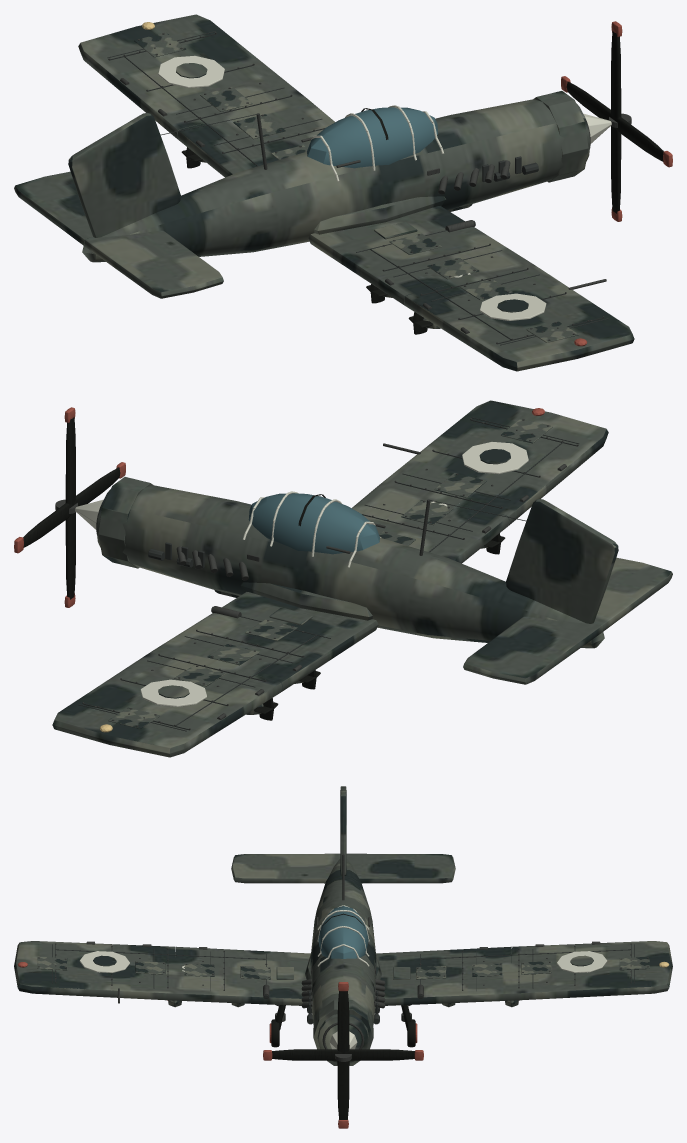
Rendered from plane_friendly.glb.
The picture shows the model from 3 angles, top to bottom: view 1: azimuth 30°, elevation 25°; view 2: azimuth 150°, elevation 25°; view 3: azimuth 270°, elevation 25°; orthographic projection. The views are drawn at different scales.
Parts seen in each view (by area): view 1: part, V2 field detail • vehicles/plane_friendly, part.001, Premium details - vehicles/plane_friendly; view 2: part, V2 field detail • vehicles/plane_friendly, part.001, Premium details - vehicles/plane_friendly; view 3: part, V2 field detail • vehicles/plane_friendly, part.001, Premium details - vehicles/plane_friendly.
Part boxes in pixels (x1,y1,x2,y2): part: (14,14,634,371); V2 field detail • vehicles/plane_friendly: (108,32,606,344); part.001: (561,21,672,221); Premium details - vehicles/plane_friendly: (107,22,608,346); part: (52,400,672,757); V2 field detail • vehicles/plane_friendly: (82,418,578,730); part.001: (14,407,125,607); Premium details - vehicles/plane_friendly: (78,408,579,732); part: (14,786,672,1065); V2 field detail • vehicles/plane_friendly: (37,817,649,1008); part.001: (263,982,423,1128); Premium details - vehicles/plane_friendly: (17,905,669,1049).
Size of the model in its own units: 6.85 by 2.58 by 9.39.
Materials: 8 (3 with a texture image).
